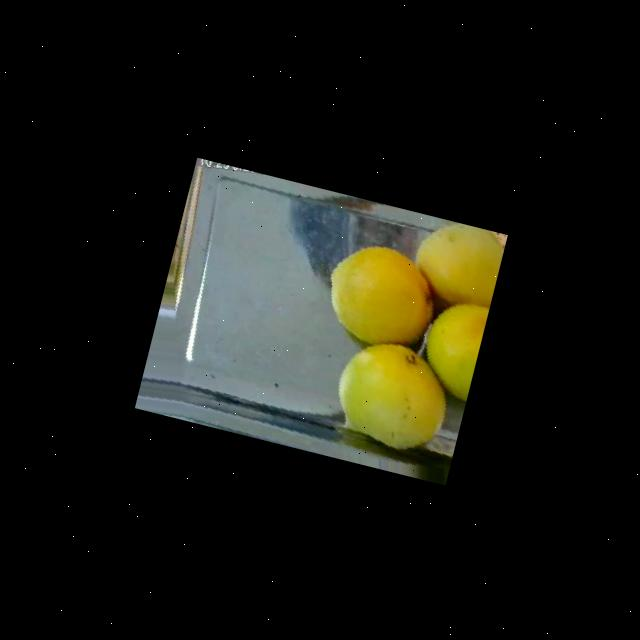Mango: (324, 330, 458, 458), (316, 233, 444, 355), (404, 213, 506, 312), (412, 292, 488, 400)
